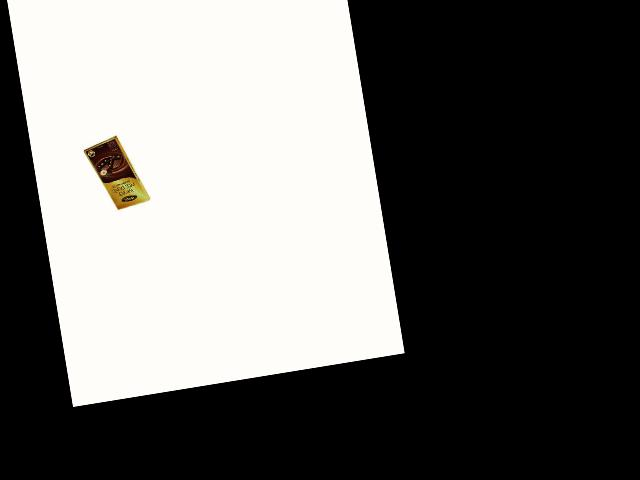chocolate: (80, 125, 153, 214)
